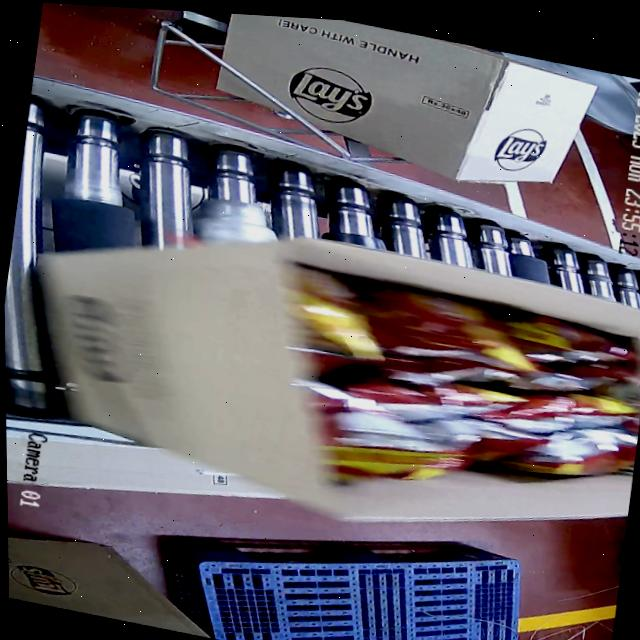MASALA: (305, 269, 640, 522)
